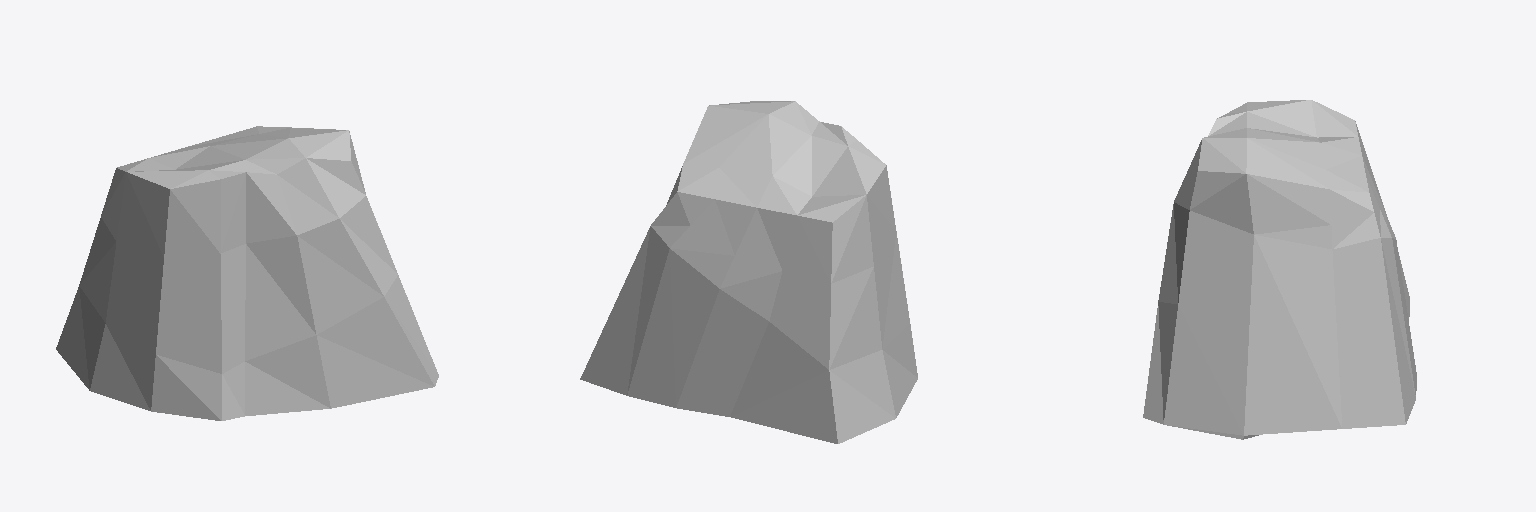
Rendered from nature_rock-1.obj.
The picture shows the model from 3 angles: view 1: azimuth 30°, elevation 25°; view 2: azimuth 150°, elevation 25°; view 3: azimuth 270°, elevation 25°; orthographic projection.
Visible parts, largest first — view 1: Cube; view 2: Cube; view 3: Cube.
Part boxes in pixels (bbox=[...]): Cube: bbox=[56, 126, 438, 420]; Cube: bbox=[580, 101, 917, 443]; Cube: bbox=[1143, 100, 1416, 439].
Size of the model in its own units: 2.81 by 2.29 by 2.26.